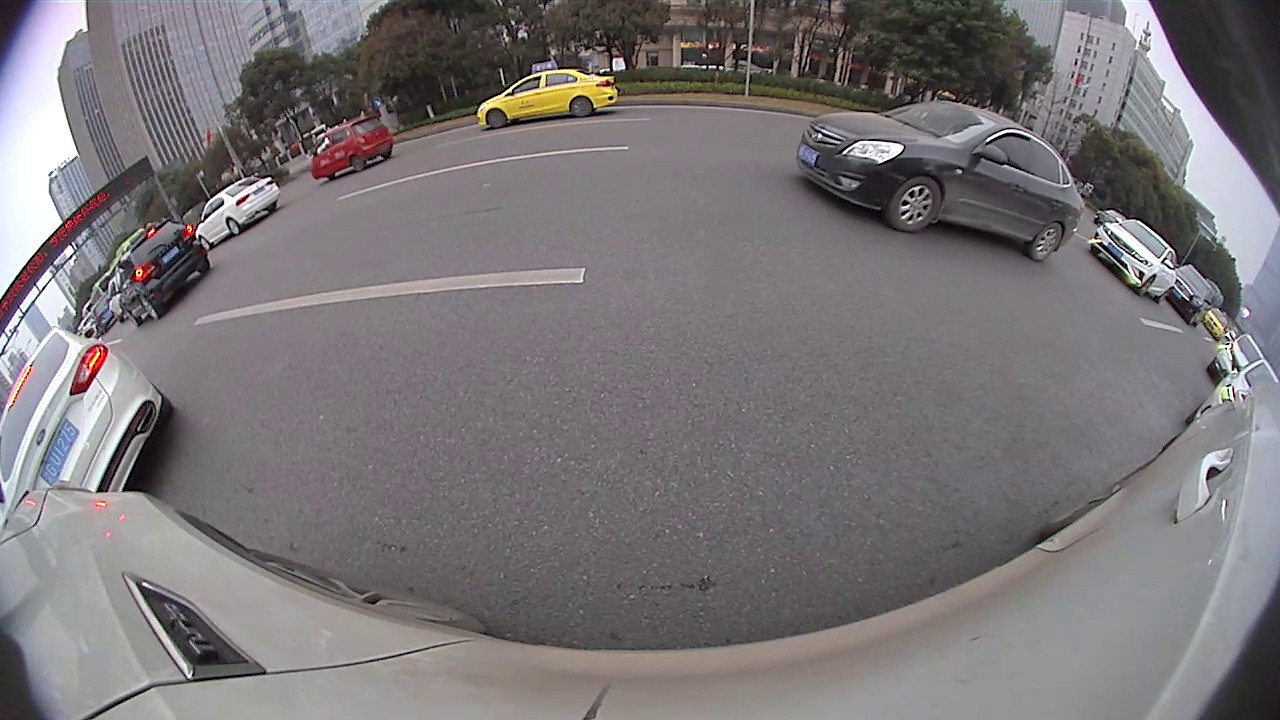car: (793, 95, 1084, 265), (2, 324, 179, 516), (471, 56, 621, 136), (115, 213, 211, 324), (1089, 215, 1182, 306), (310, 111, 396, 184), (197, 172, 283, 244), (1168, 263, 1214, 326)
front: (885, 175, 943, 232), (488, 109, 506, 131)
rear: (1032, 219, 1065, 263), (138, 293, 160, 321), (570, 98, 595, 119), (351, 153, 366, 173), (228, 219, 243, 237)
